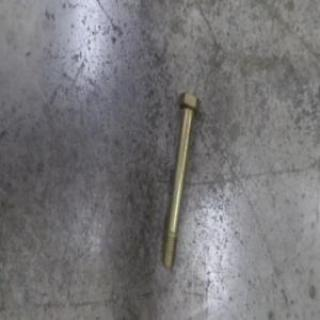Bolttrack_idkeyframe: (160, 89, 200, 270)
